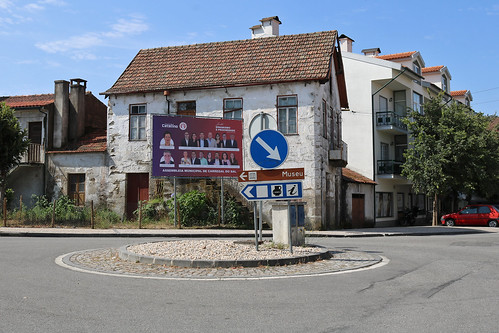low: (100, 29, 349, 232)
